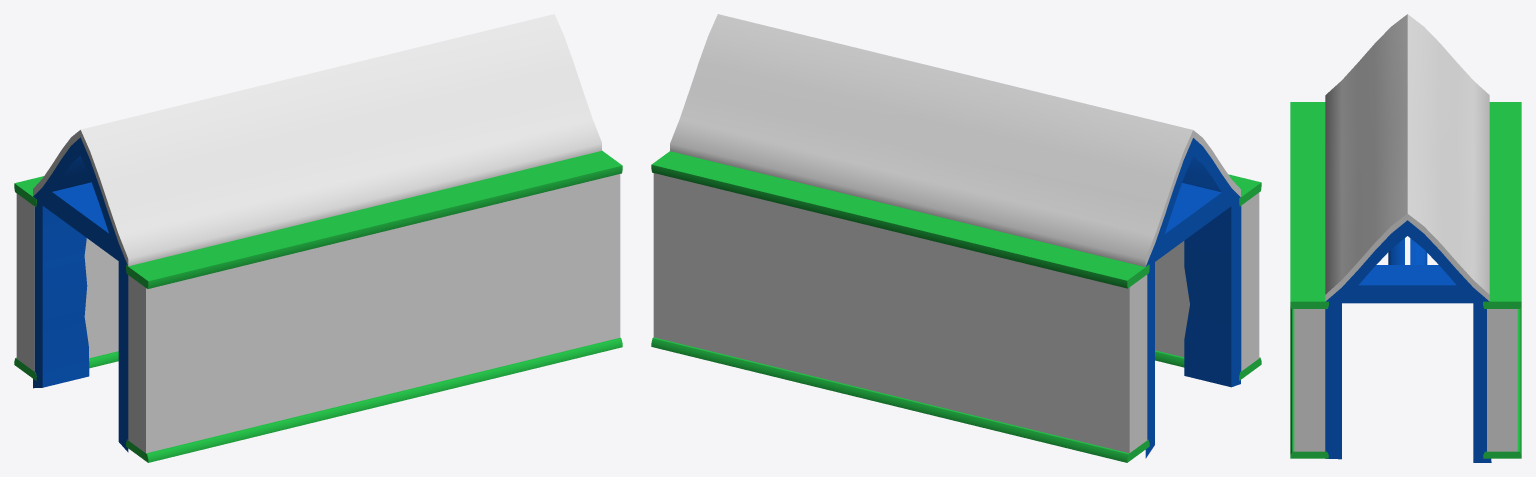
The model's file is Basic Hallway 02_NF.fbx.
3 renders of one model, left to right at view 1: azimuth 30°, elevation 25°; view 2: azimuth 150°, elevation 25°; view 3: azimuth 270°, elevation 25°, orthographic. The views are drawn at different scales.
Parts seen in each view (by area): view 1: Plane_001; view 2: Plane_001; view 3: Plane_001.
Boxes of the visible parts, x1,y1,x2,y2 form: Plane_001: [14, 14, 622, 462]; Plane_001: [651, 14, 1261, 462]; Plane_001: [1290, 14, 1521, 462].
Size of the model in its own units: 1258 by 744 by 615.
